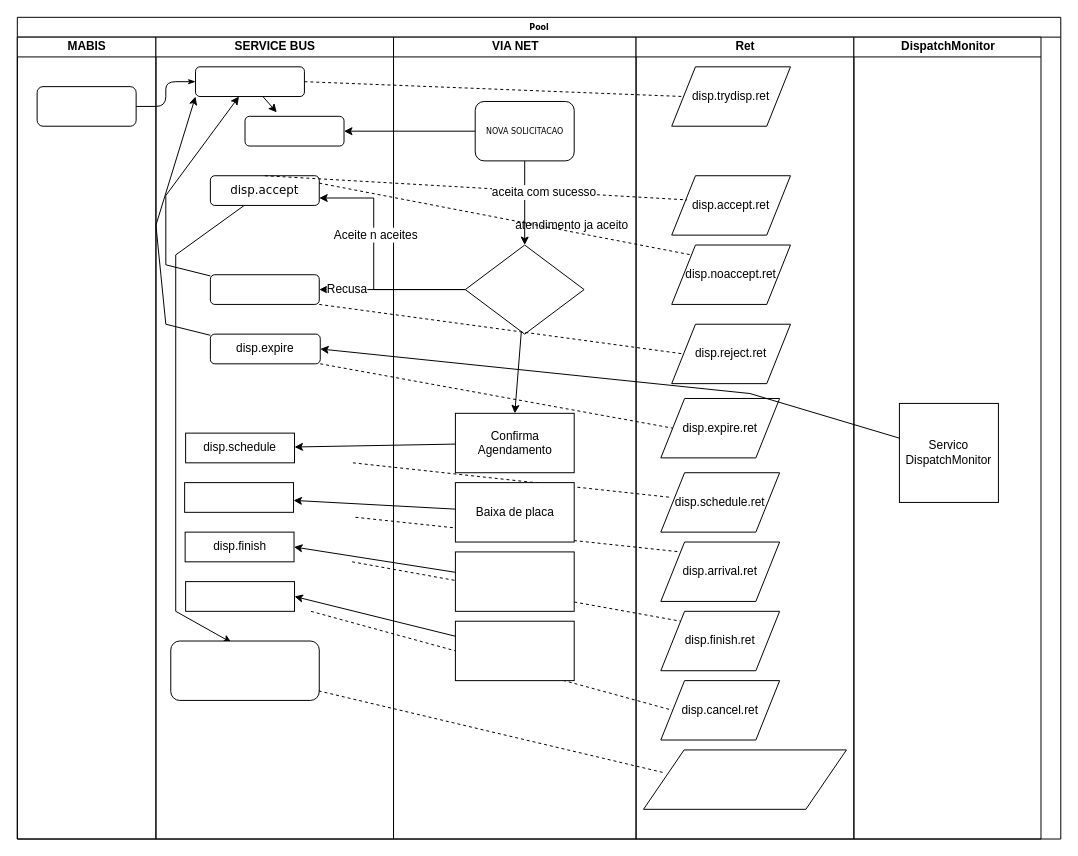
Some shapes in this 1078 by 856 pixel diagram are drawn without their labels. The shapes that lost their labels are listed below. From the top down, each one's centre as x and y in pixels, then its label:
At (249,81): "disp.trydisp".
At (86,106): "nova assistencia R40/R41P".
At (294,130): "disp.newservice".
At (264,289): "disp.reject".
At (524,289): "ACEITO ANTES DE X MINUTOS? ou Recusa".
At (239,497): "disp.arrival".
At (240,596): "disp.cancel".
At (514,581): "Finalizacao".
At (244,670): "finance.serviceorder.new".
At (514,650): "Vianet, Mabis, Etc Cancelamento".
At (744,779): "finance.serviceorder.new.ret".
